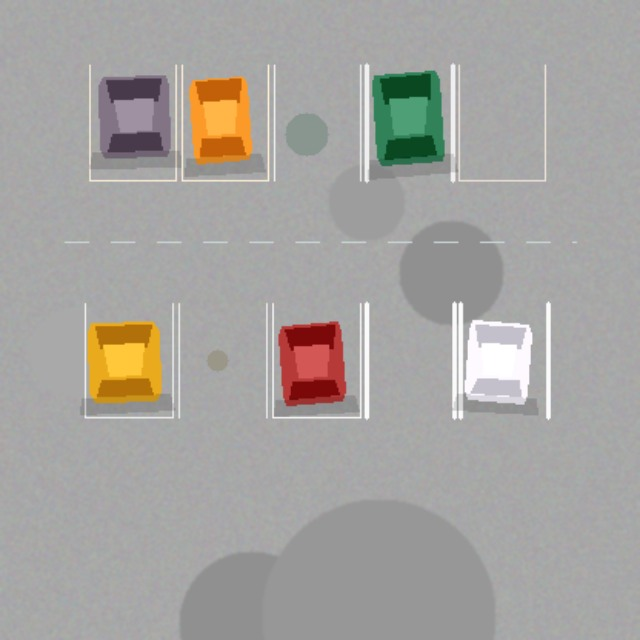space-empty: (178, 303, 266, 417), (366, 303, 454, 417), (458, 65, 545, 180), (274, 65, 360, 180)
space-occupied: (272, 303, 360, 417), (460, 303, 548, 417), (85, 303, 172, 417), (89, 65, 175, 180), (182, 65, 268, 180), (366, 65, 452, 180)
